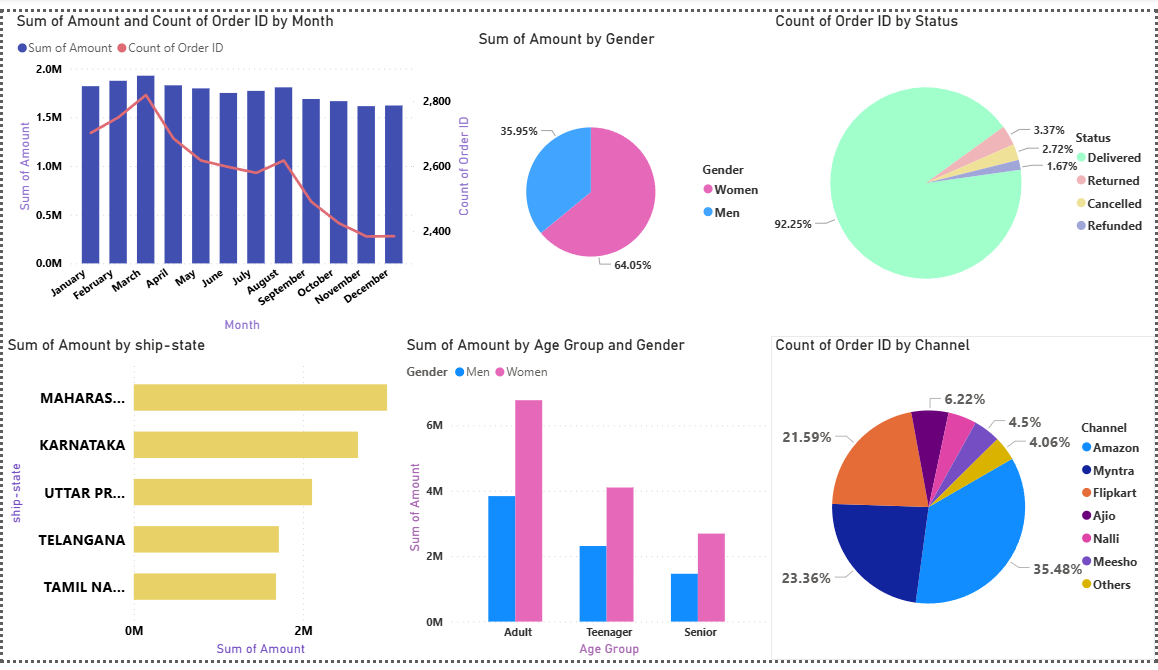

The dashboard page shown, as its layout file describes it:
{"tool":"powerbi","page":{"name":"Vrinda Store Report 2024","canvas":[1280,720],"ordinal":0},"visuals":[{"type":"lineClusteredColumnComboChart","fields":{"Y2":["CountNonNull(Table1.Order ID)"],"Category":["Table1.Date.Variation.Date Hierarchy.Month"],"Y":["Sum(Table1.Amount)"]},"box":[10,0,513.3,360],"z":0},{"type":"pieChart","fields":{"Category":["Table1.Gender"],"Y":["Sum(Table1.Amount)"]},"box":[523.3,20,330,340],"z":1000},{"type":"pieChart","fields":{"Category":["Table1.Status"],"Y":["CountNonNull(Table1.Order ID)"]},"box":[853.3,0,426.7,360],"z":2000},{"type":"clusteredBarChart","fields":{"Category":["Table1.ship-state"],"Y":["Sum(Table1.Amount)"]},"box":[0,360,443.3,360],"z":3000},{"type":"clusteredColumnChart","fields":{"Category":["Table1.Age Group"],"Y":["Sum(Table1.Amount)"],"Series":["Table1.Gender"]},"box":[443.3,360,410,360],"z":4000},{"type":"pieChart","fields":{"Y":["CountNonNull(Table1.Order ID)"],"Category":["Table1.Channel "]},"box":[853.3,360,426.7,360],"z":5000}]}

Visuals, with their boxes on the page's 1280x720 design canvas (x1, y1, x2, y2). These are canvas units, not pixel positions in the 1158x670 screenshot, which may show the page scaled, cropped or inside an application window:
lineClusteredColumnComboChart - CountNonNull(Table1.Order ID) x Table1.Date.Variation.Date Hierarchy.Month: <bbox>10, 0, 523, 360</bbox>
pieChart - Table1.Gender x Sum(Table1.Amount): <bbox>523, 20, 853, 360</bbox>
pieChart - Table1.Status x CountNonNull(Table1.Order ID): <bbox>853, 0, 1280, 360</bbox>
clusteredBarChart - Table1.ship-state x Sum(Table1.Amount): <bbox>0, 360, 443, 720</bbox>
clusteredColumnChart - Table1.Age Group x Sum(Table1.Amount): <bbox>443, 360, 853, 720</bbox>
pieChart - CountNonNull(Table1.Order ID) x Table1.Channel : <bbox>853, 360, 1280, 720</bbox>
